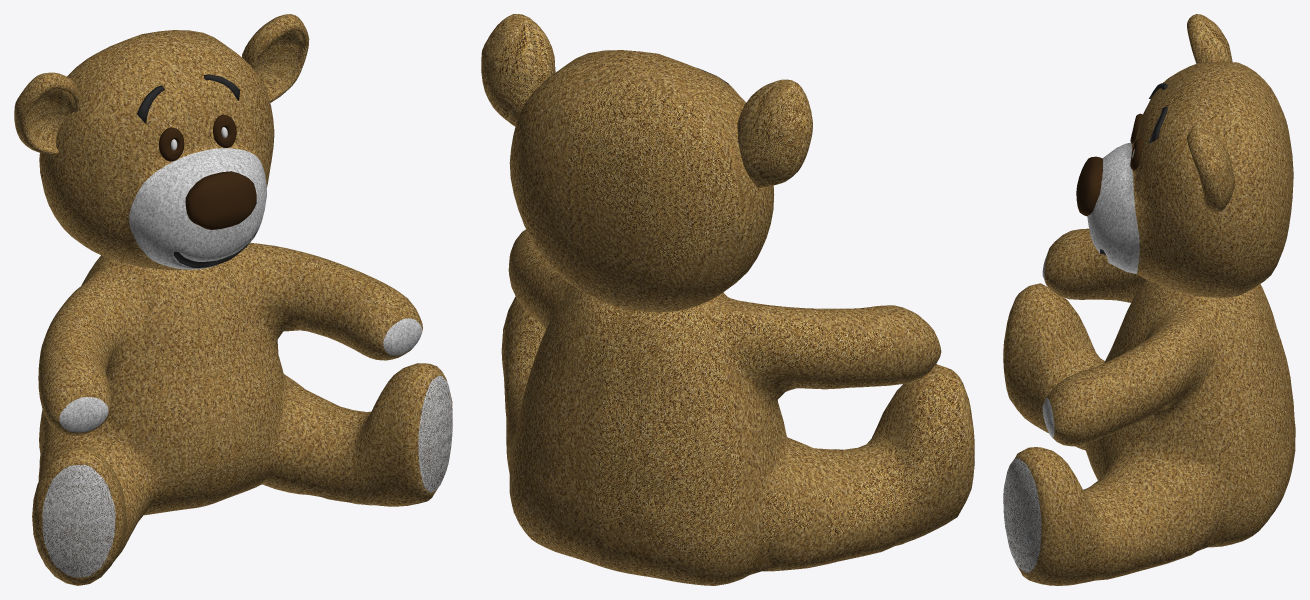
The model's file is teddybear.dae.
The picture shows the model from 3 angles, left to right: view 1: azimuth 30°, elevation 25°; view 2: azimuth 150°, elevation 25°; view 3: azimuth 270°, elevation 25°; orthographic projection. The views are drawn at different scales.
Parts seen in each view (by area): view 1: telo (×5), hlava (×2), ucho (×2), nos, oko; view 2: telo, hlava, ucho (×2); view 3: telo (×2), hlava (×2), ucho (×2), nos.
Boxes of the visible parts, x1,y1,x2,y2 form: telo (×5): (32,242,452,585); hlava (×2): (39,30,274,269); ucho (×2): (14,14,309,155); nos: (185,171,256,229); oko: (159,127,184,161); telo: (501,229,974,585); hlava: (509,50,774,312); ucho (×2): (481,14,812,188); telo (×2): (1003,228,1295,585); hlava (×2): (1087,61,1293,297); ucho (×2): (1187,14,1234,212); nos: (1076,156,1102,216).
Bounding box in the file's own units: 14.54 × 9.07 × 14.96.
5 materials, 2 textured.
